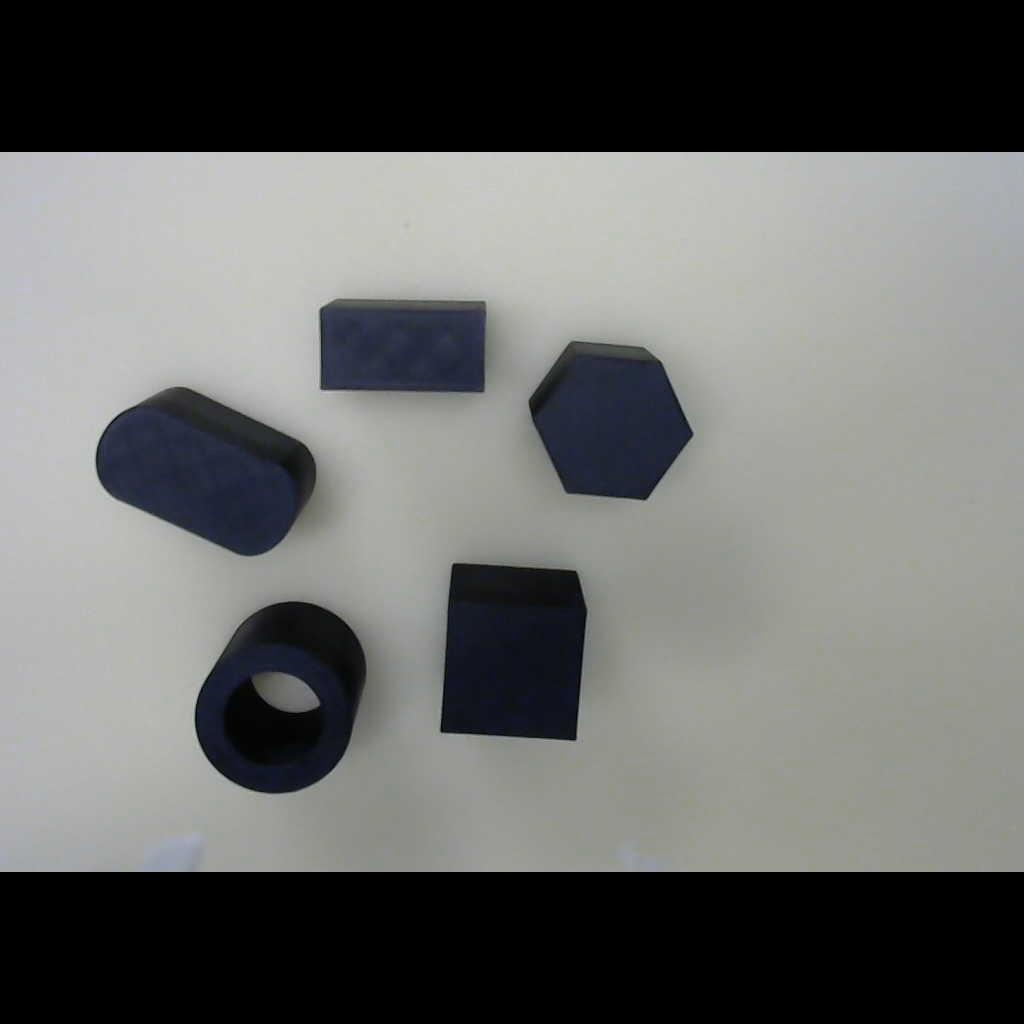hexagon: (507, 322, 713, 514)
oval: (67, 351, 343, 585)
rectangle: (297, 285, 504, 405)
ring: (187, 594, 377, 798)
square: (417, 542, 610, 760)
